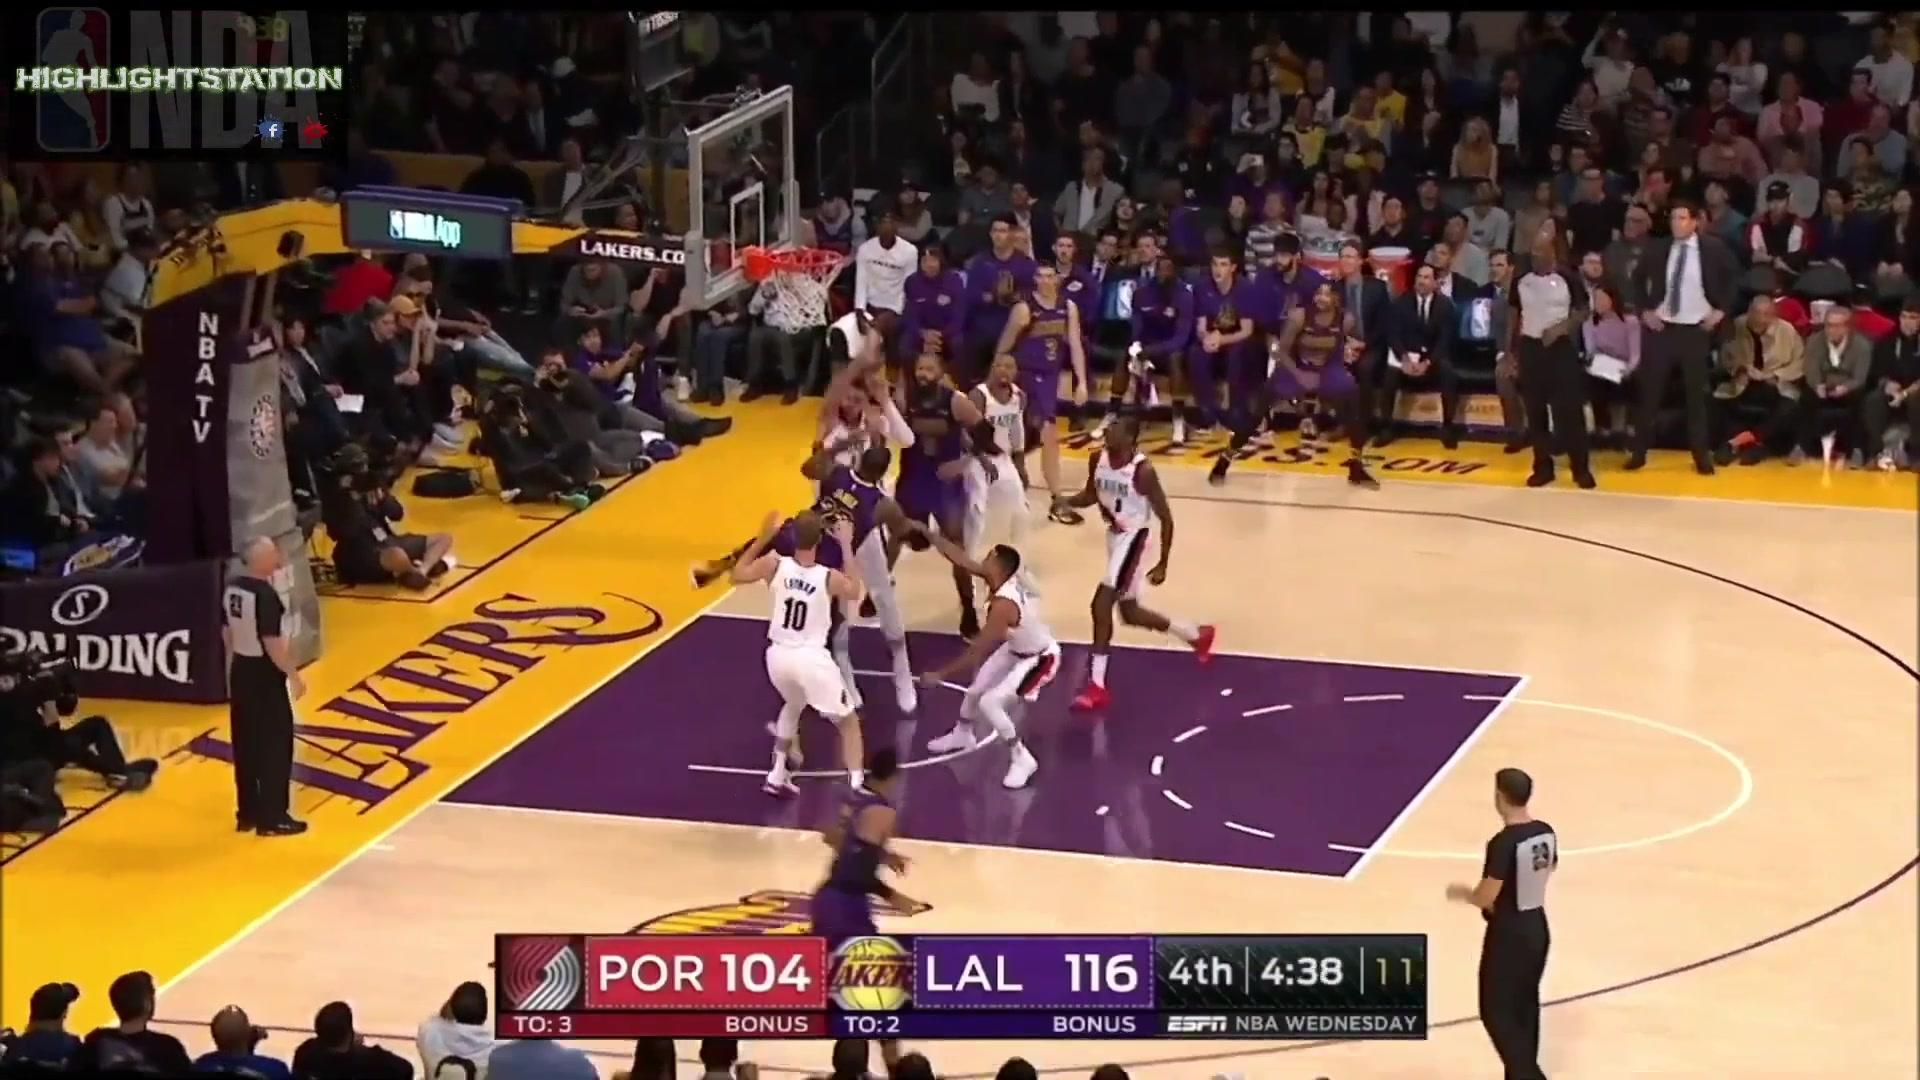no_foul: (717, 448, 924, 822)
